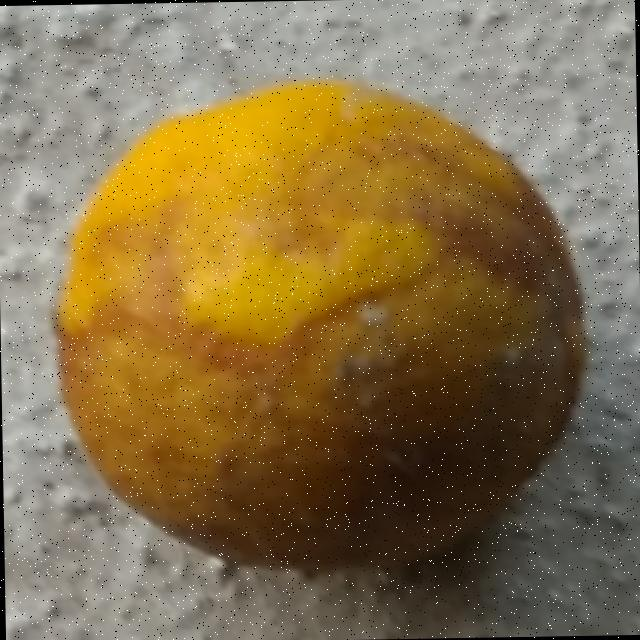overripe: (40, 72, 586, 589)
